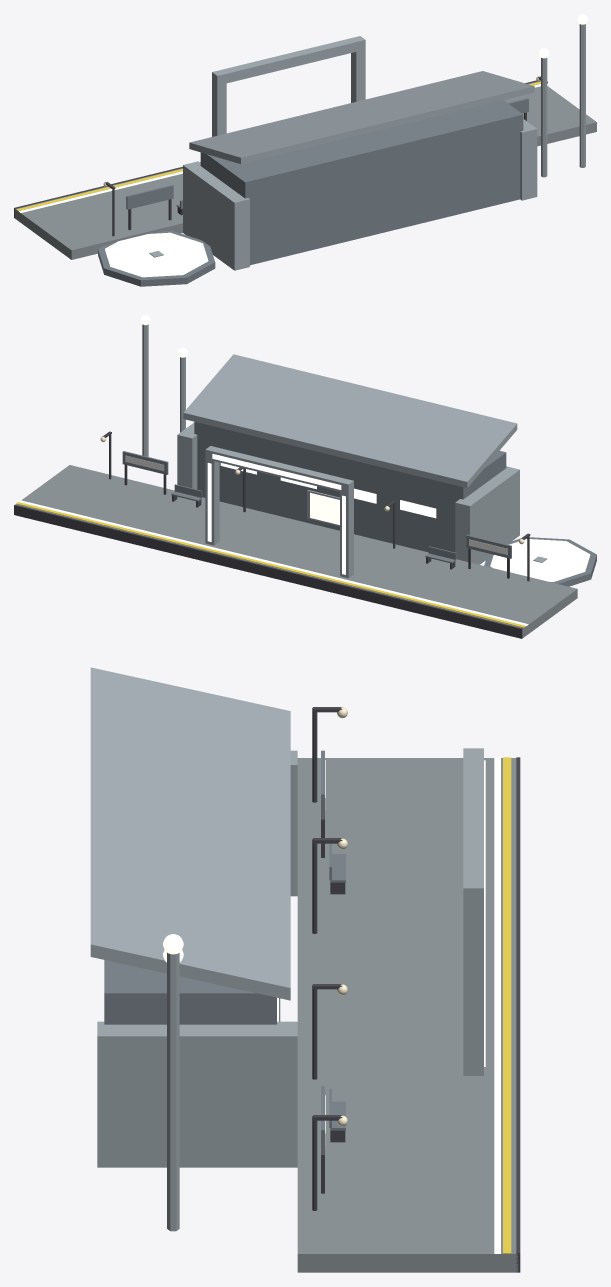
The model's file is Station_fortress.fbx.
3 views of the same model, one above another, from view 1: azimuth 30°, elevation 25°; view 2: azimuth 150°, elevation 25°; view 3: azimuth 270°, elevation 25° (orthographic). The views are drawn at different scales.
Visible parts, largest first — view 1: Station_fortress; view 2: Station_fortress; view 3: Station_fortress.
Boxes of the visible parts, <box> form: Station_fortress: <box>14,14,596,286</box>; Station_fortress: <box>14,315,596,638</box>; Station_fortress: <box>90,667,520,1272</box>.
Size of the model in its own units: 34 by 9.4 by 12.46.
